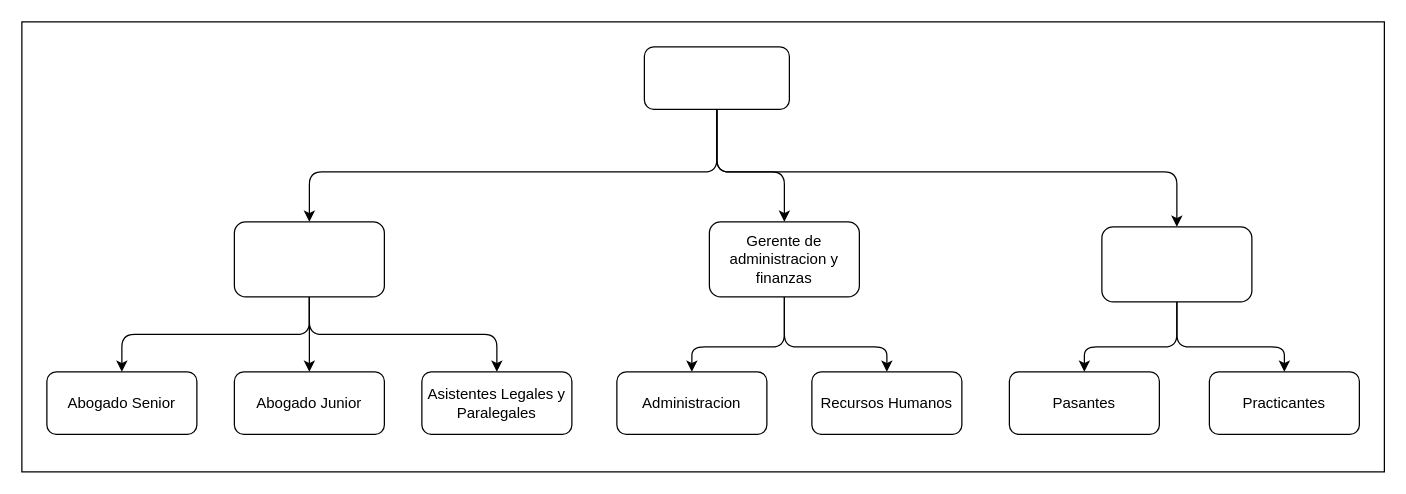
Image size: 1406x494. Some labels were removed from this diagram. The centre of each missing label's shape, as x and y in pixels:
"Gerente de areas operativas" goes at (x=308, y=259).
"Gerente de pasantes y practicantes" goes at (x=1176, y=264).
"Socios / Directores" goes at (x=716, y=77).
